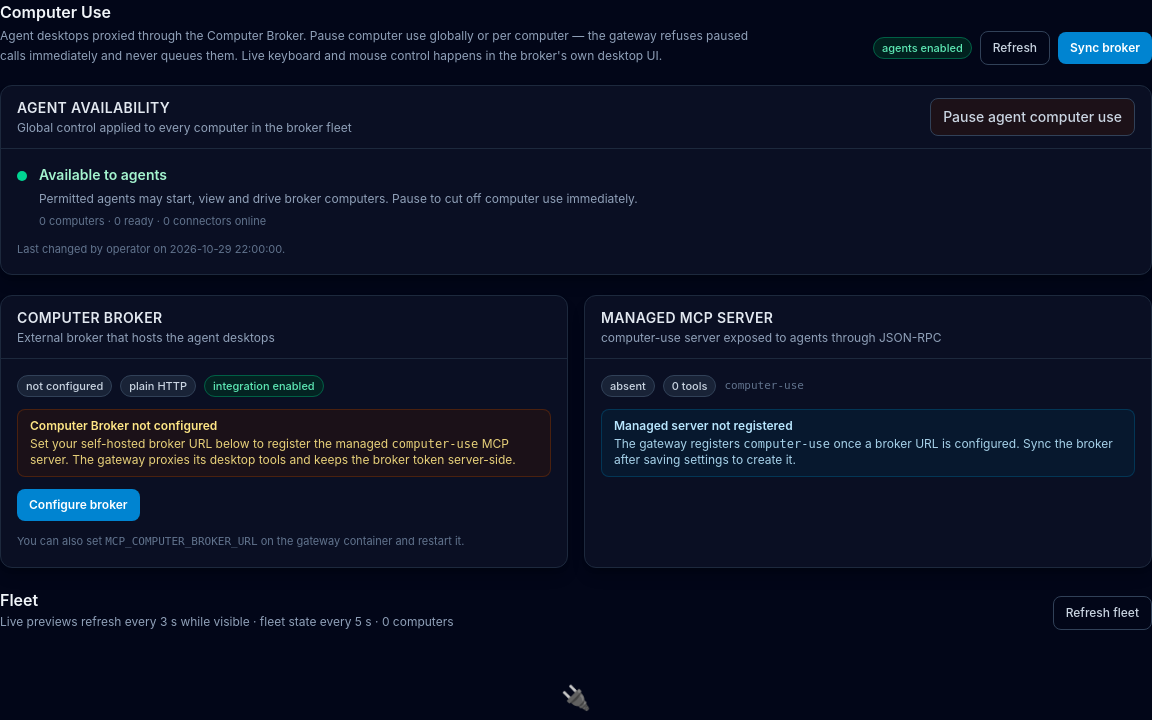
Test case: Computer Use page › explains an unconfigured broker and opens the settings dialog
This screenshot has width=1152, height=720.
Expected: the text "Computer Broker not configured" is shown, [30,418,217,433]
Expected: the text "MCP_COMPUTER_BROKER_URL" is shown, [105,535,258,548]
Click the button "Configure broker".
click(78, 505)  # box [17,489,140,521]
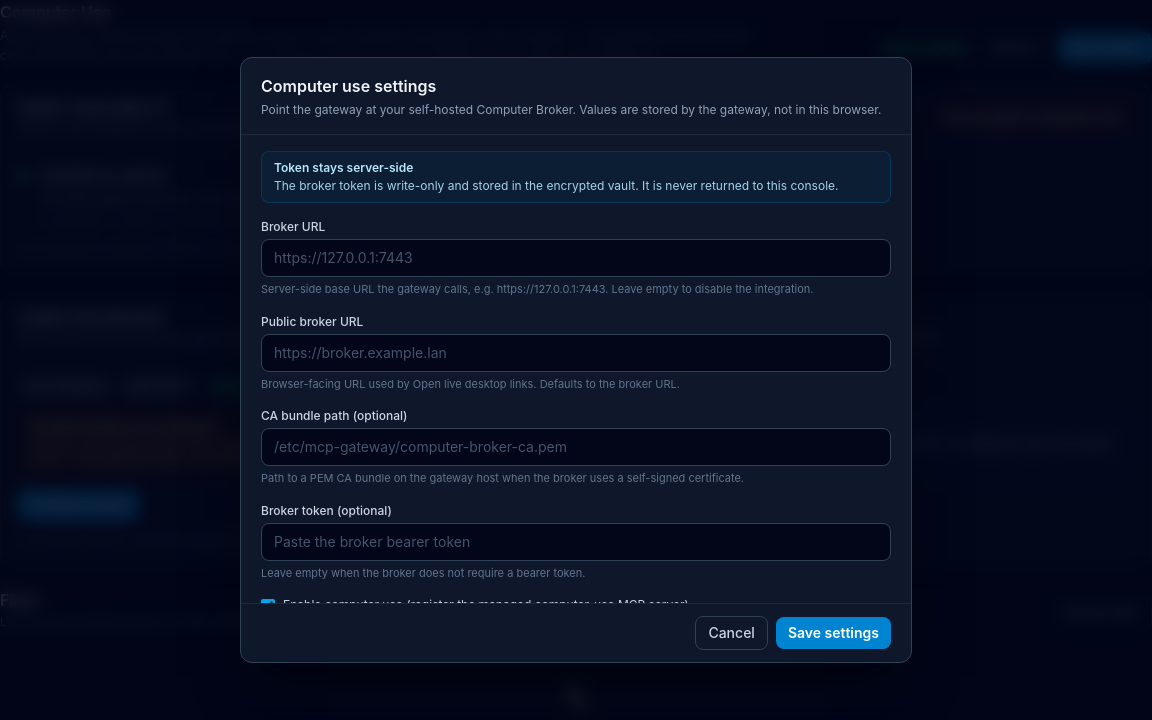
Expected: the field labelled "Broker URL" is shown, [261,239,891,277]
Expected: the password field labelled "token" is shown, [261,522,891,560]
